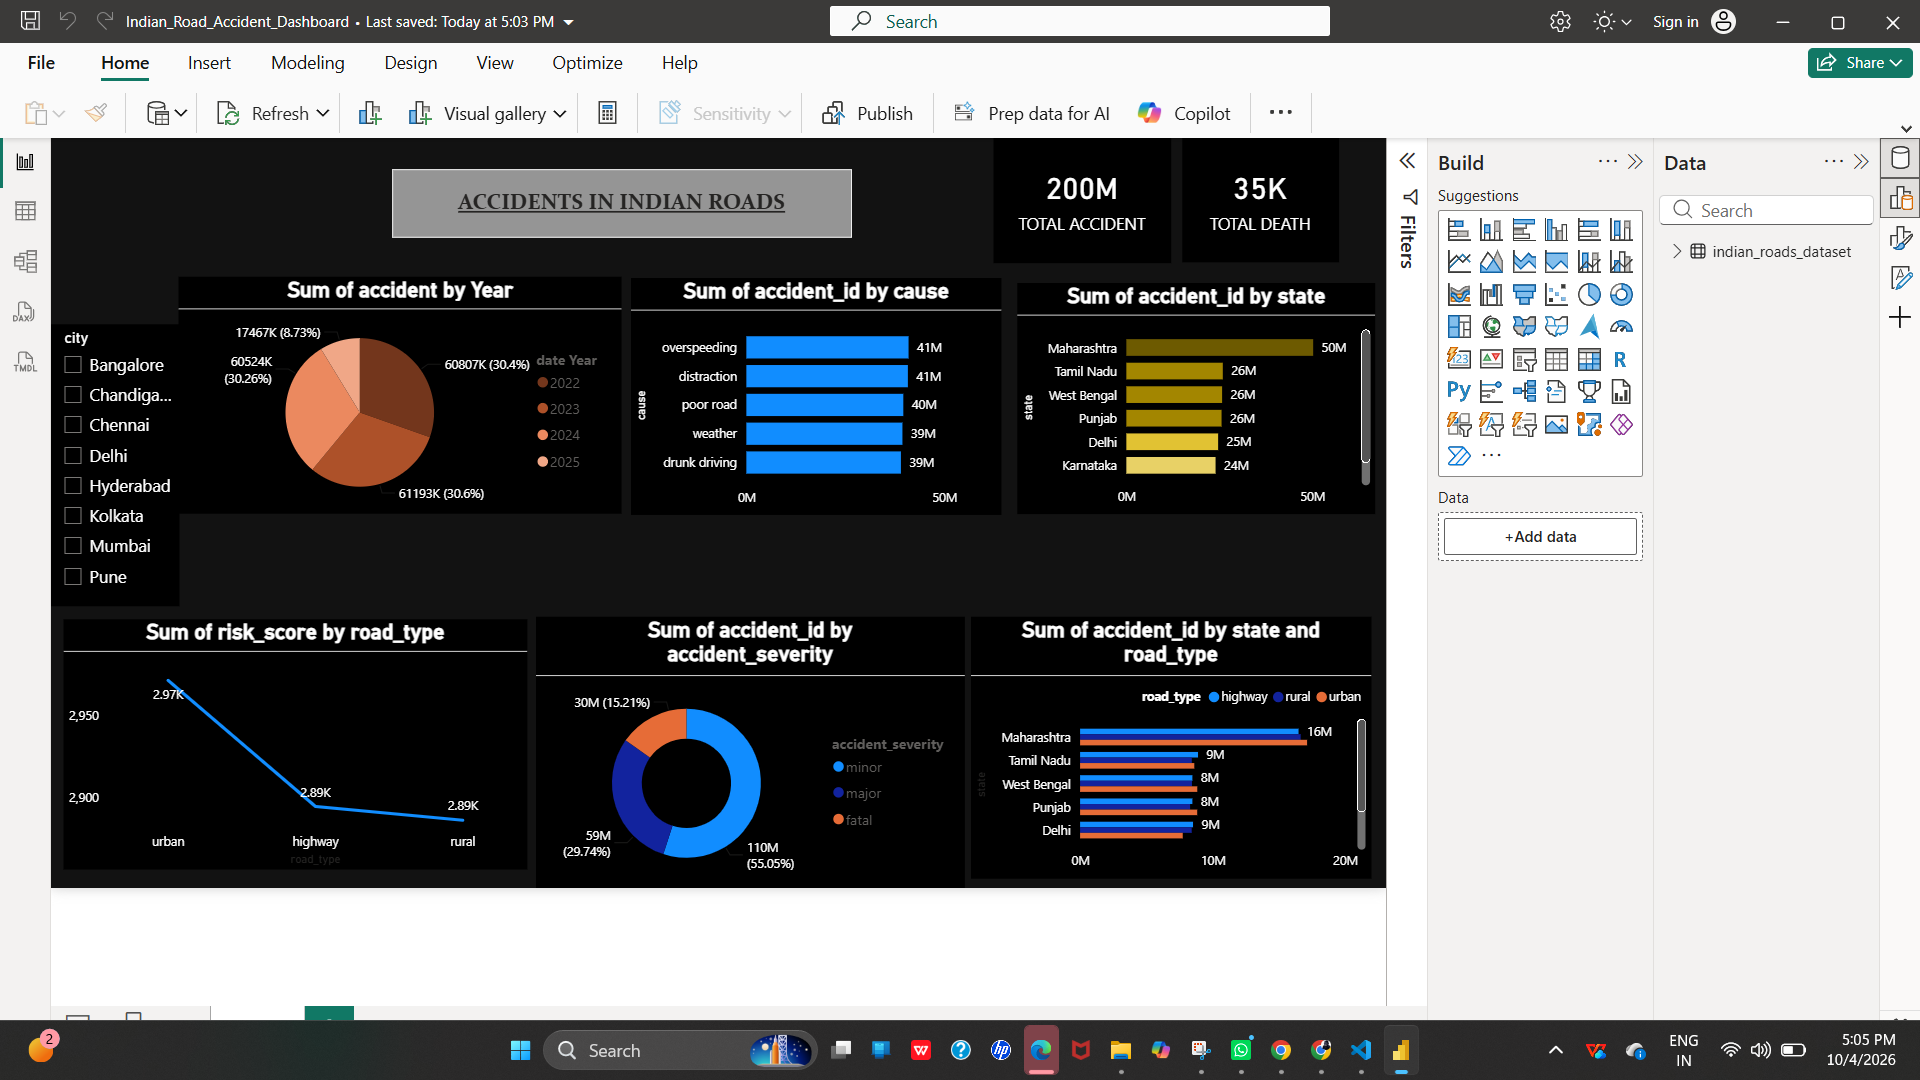

Layout of this report page (visuals, bound fields, positions):
{"tool":"powerbi","page":{"name":"Page 1","canvas":[1280,720],"ordinal":0},"visuals":[{"type":"pieChart","title":"Sum of accident by Year","fields":{"Category":["indian_roads_dataset.date.Variation.Date Hierarchy.Year","indian_roads_dataset.date.Variation.Date Hierarchy.Quarter","indian_roads_dataset.date.Variation.Date Hierarchy.Month","indian_roads_dataset.date.Variation.Date Hierarchy.Day"],"Y":["Sum(indian_roads_dataset.accident_id)"]},"box":[122.8,132.6,425,227.2],"z":0},{"type":"clusteredBarChart","fields":{"Category":["indian_roads_dataset.state"],"Y":["Sum(indian_roads_dataset.accident_id)"]},"box":[926.1,139.1,343.5,221.7],"z":1},{"type":"clusteredBarChart","fields":{"Category":["indian_roads_dataset.state"],"Series":["indian_roads_dataset.road_type"],"Y":["Sum(indian_roads_dataset.accident_id)"]},"box":[882.6,458.7,383.7,251.1],"z":2},{"type":"lineChart","fields":{"Category":["indian_roads_dataset.road_type"],"Y":["Sum(indian_roads_dataset.risk_score)"]},"box":[12,460.9,444.6,240.2],"z":3},{"type":"barChart","fields":{"Category":["indian_roads_dataset.cause"],"Y":["Sum(indian_roads_dataset.accident_id)"]},"box":[556.5,133.7,355.4,227.2],"z":5},{"type":"textbox","box":[327.5,30.1,440.4,65.3],"z":8},{"type":"slicer","fields":{"Values":["indian_roads_dataset.city"]},"box":[0,178.3,122.8,270.7],"z":10},{"type":"card","fields":{"Values":["indian_roads_dataset.TOTAL DEATH"]},"box":[1084.7,0,150,119.4],"z":12},{"type":"donutChart","fields":{"Category":["indian_roads_dataset.accident_severity"],"Y":["Sum(indian_roads_dataset.accident_id)"]},"box":[465.2,458.7,410.9,260.9],"z":13},{"type":"card","fields":{"Values":["indian_roads_dataset.TOTAL ACCIDENT"]},"box":[903.2,0,170.2,119.7],"z":14}]}

Visuals, with their boxes on the page's 1280x720 design canvas (x1, y1, x2, y2). These are canvas units, not pixel positions in the 1920x1080 screenshot, which may show the page scaled, cropped or inside an application window:
"Sum of accident by Year" pieChart: [123, 133, 548, 360]
clusteredBarChart - indian_roads_dataset.state x Sum(indian_roads_dataset.accident_id): [926, 139, 1270, 361]
clusteredBarChart - indian_roads_dataset.state x indian_roads_dataset.road_type: [883, 459, 1266, 710]
lineChart - indian_roads_dataset.road_type x Sum(indian_roads_dataset.risk_score): [12, 461, 457, 701]
barChart - indian_roads_dataset.cause x Sum(indian_roads_dataset.accident_id): [556, 134, 912, 361]
textbox: [328, 30, 768, 95]
slicer - indian_roads_dataset.city: [0, 178, 123, 449]
card - indian_roads_dataset.TOTAL DEATH: [1085, 0, 1235, 119]
donutChart - indian_roads_dataset.accident_severity x Sum(indian_roads_dataset.accident_id): [465, 459, 876, 720]
card - indian_roads_dataset.TOTAL ACCIDENT: [903, 0, 1073, 120]
